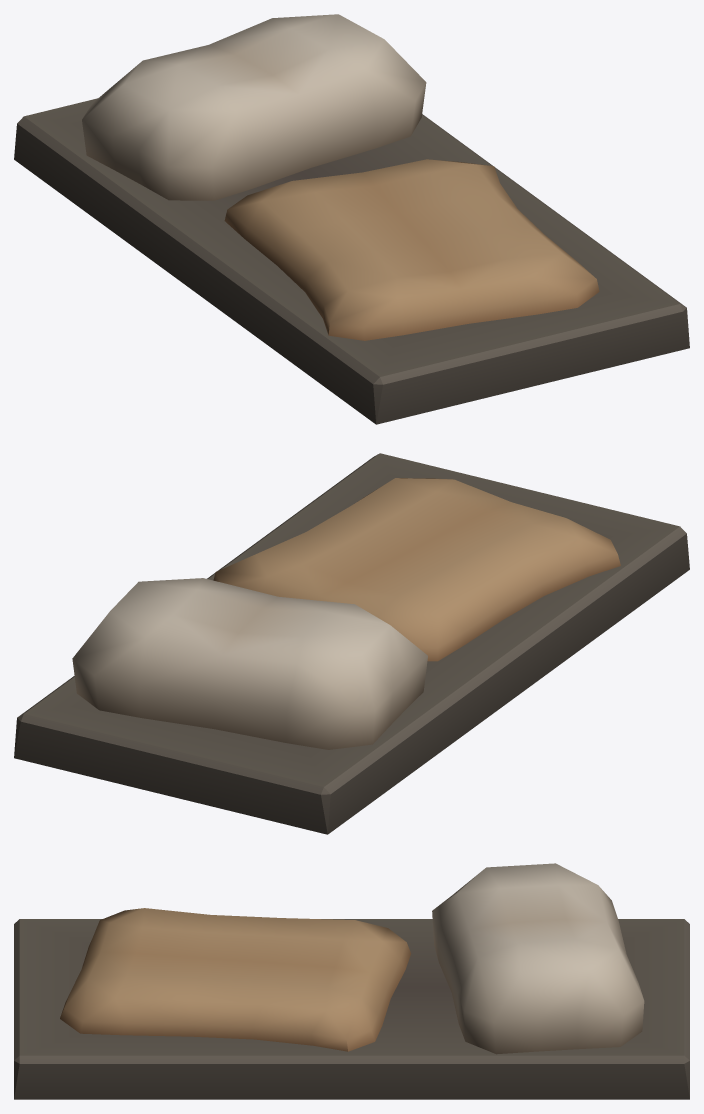
The model's file is bed-floor.glb.
3 renders of one model, top to bottom at view 1: azimuth 30°, elevation 25°; view 2: azimuth 150°, elevation 25°; view 3: azimuth 270°, elevation 25°, orthographic. The views are drawn at different scales.
Parts seen in each view (by area): view 1: bed-floor; view 2: bed-floor; view 3: bed-floor.
Part boxes in pixels (box(x1,y1,x2,y2)): bed-floor: box(14, 14, 689, 424); bed-floor: box(14, 453, 689, 834); bed-floor: box(14, 863, 689, 1099).
Size of the model in its own units: 1.07 by 0.3999 by 2.13.
